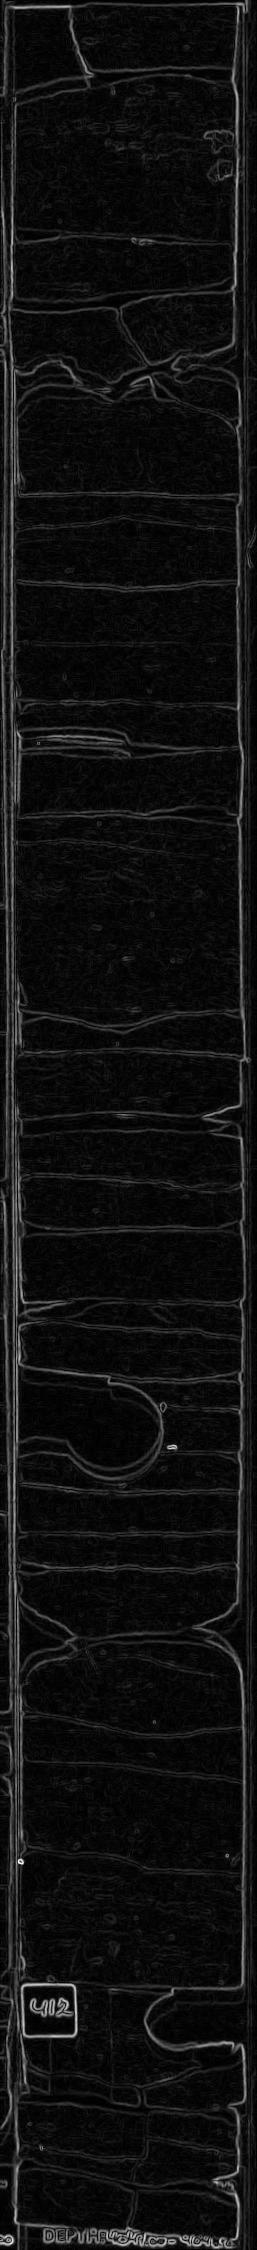hplug: (136, 1986, 194, 2071)
scal: (67, 1375, 167, 1489)
vplug: (45, 1977, 119, 2107)
